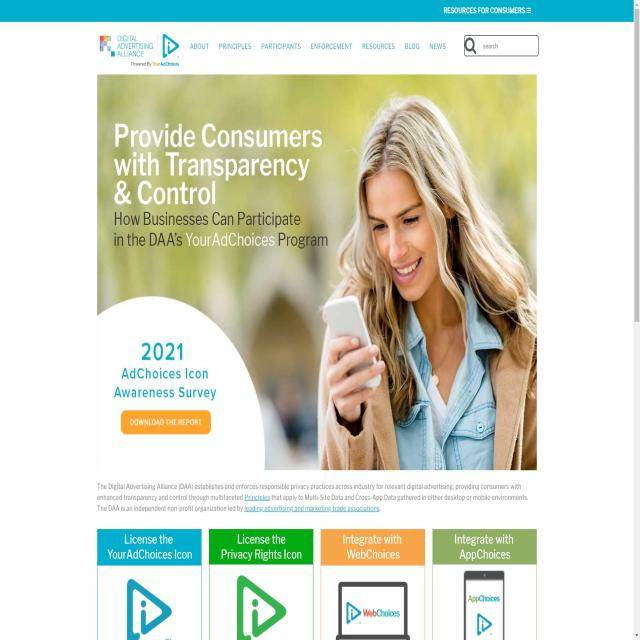menu-bar: (187, 34, 450, 55)
search: (462, 32, 540, 58)
